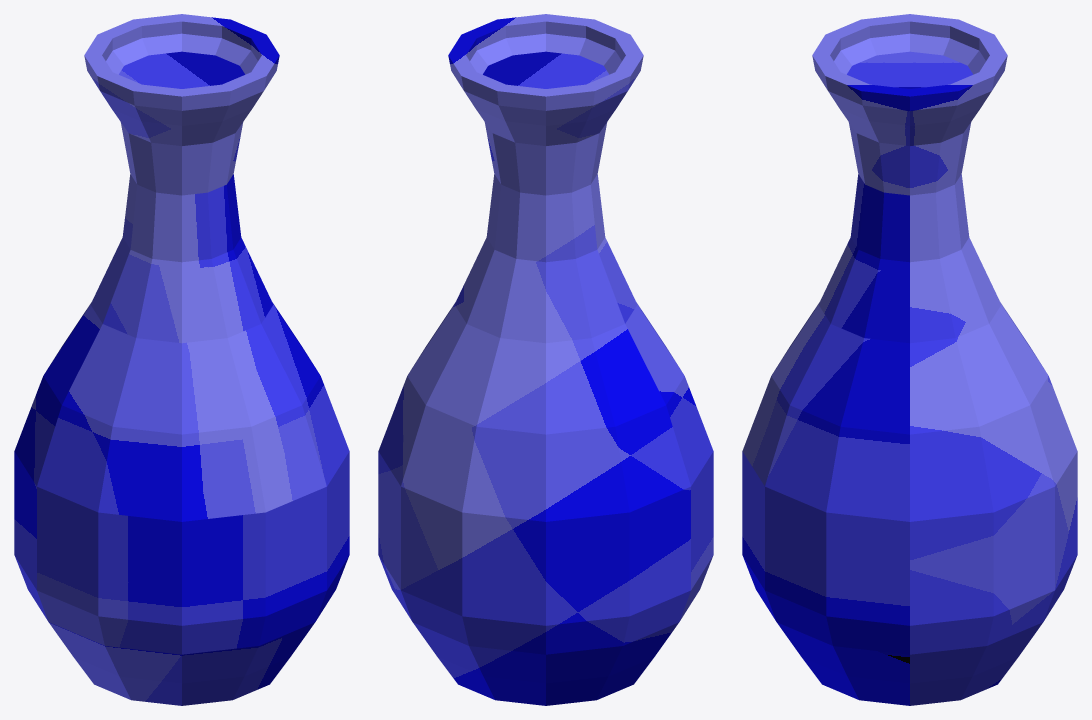
Rendered from bottle_616x15.gltf.
3 views of the same model, side by side, from view 1: azimuth 30°, elevation 25°; view 2: azimuth 150°, elevation 25°; view 3: azimuth 270°, elevation 25° (orthographic).
Visible parts, largest first — view 1: bottle_616x15; view 2: bottle_616x15; view 3: bottle_616x15.
Boxes of the visible parts, x1,y1,x2,y2 form: bottle_616x15: (14, 14, 349, 705); bottle_616x15: (378, 14, 713, 705); bottle_616x15: (742, 14, 1077, 705).
Bounding box in the file's own units: 0.6 × 1.2 × 0.6.
Materials: 1 (1 with a texture image).
